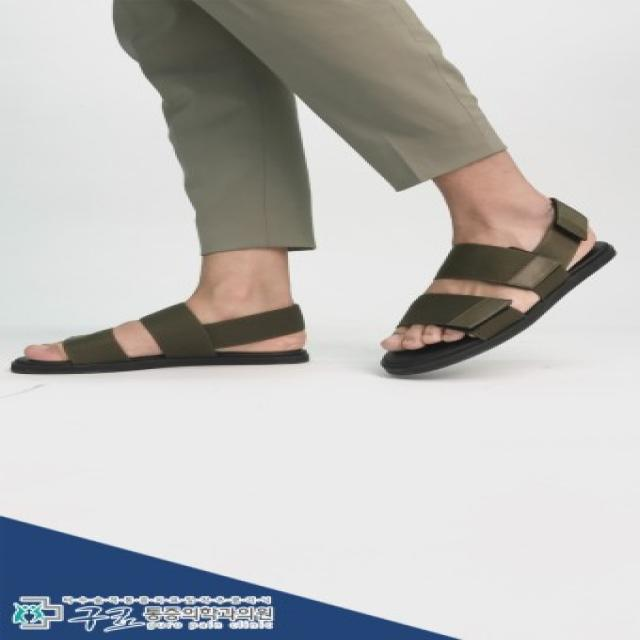no-boots: (374, 187, 618, 419), (22, 304, 322, 392)
